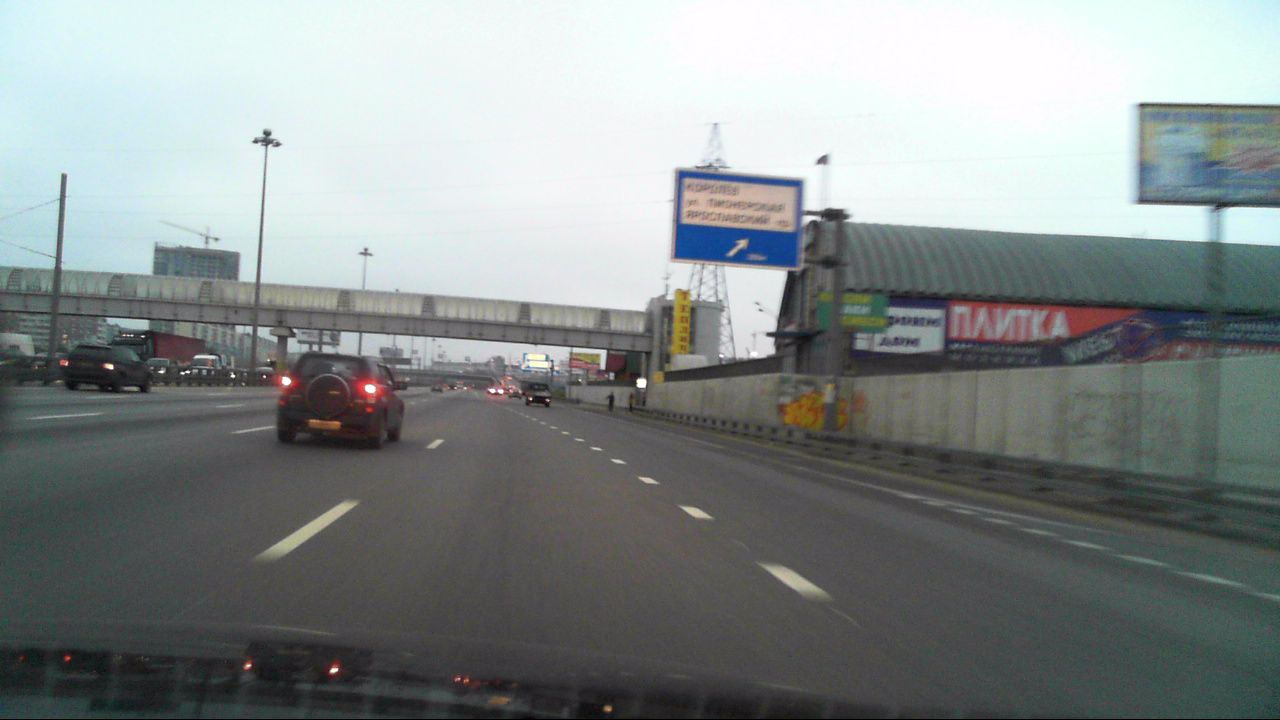No Parking: (1116, 321, 1150, 360)
